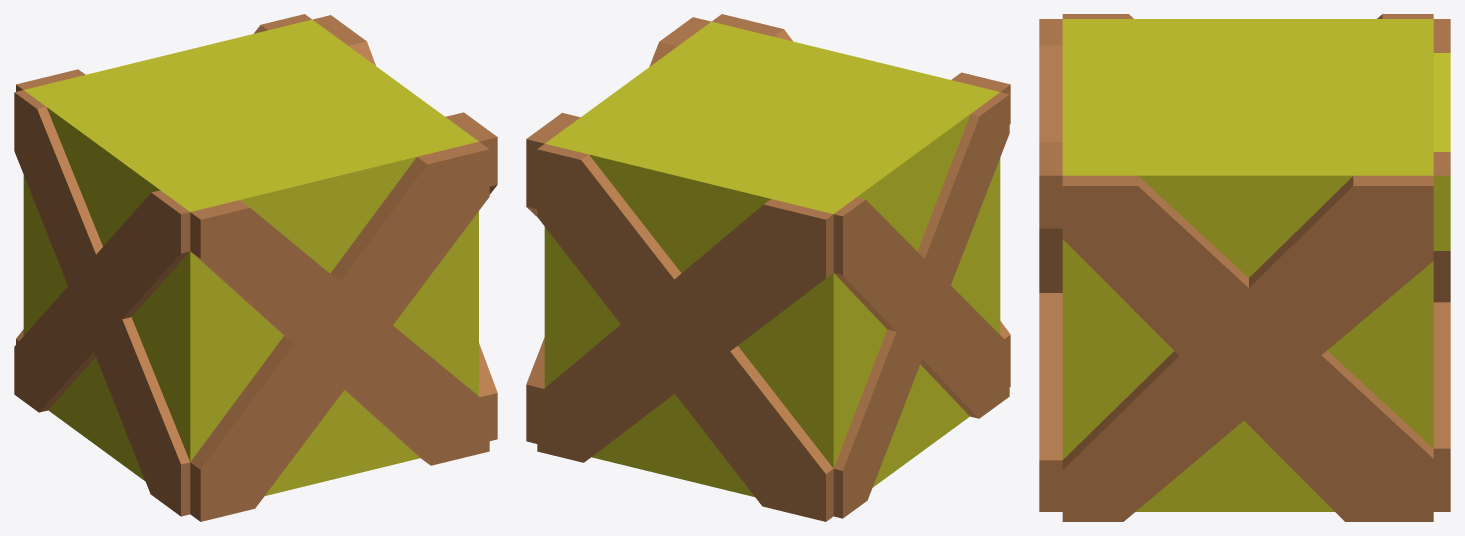
Rendered from CorrectBox.fbx.
The picture shows the model from 3 angles, left to right: view 1: azimuth 30°, elevation 25°; view 2: azimuth 150°, elevation 25°; view 3: azimuth 270°, elevation 25°; orthographic projection. The views are drawn at different scales.
Parts seen in each view (by area): view 1: Cube; view 2: Cube; view 3: Cube.
Part boxes in pixels (<box>): Cube: <box>14,14,497,521</box>; Cube: <box>526,14,1010,521</box>; Cube: <box>1039,14,1450,521</box>.
Size of the model in its own units: 500 by 456 by 505.
